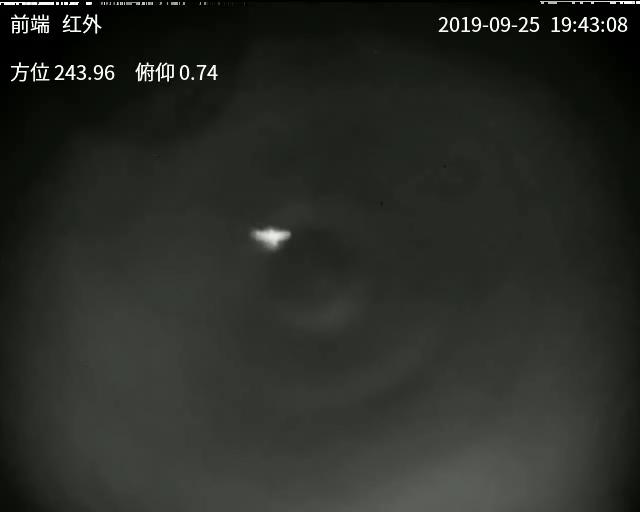uav: (248, 223, 294, 256)
